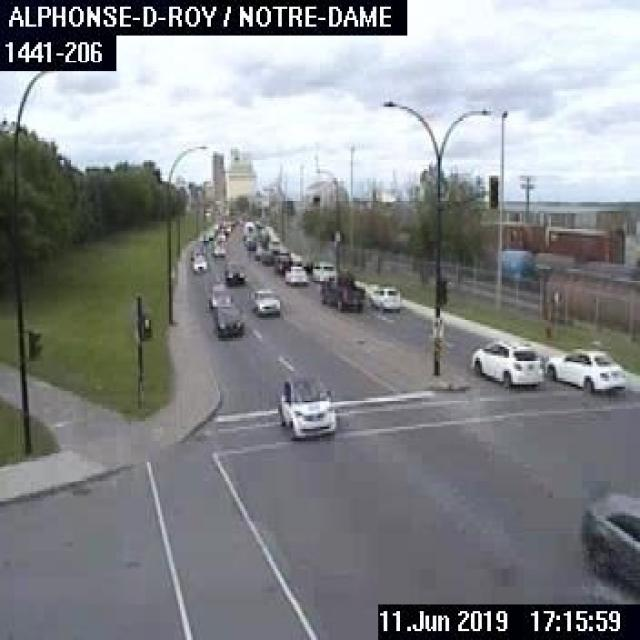vehicle: (580, 489, 638, 587), (542, 338, 628, 396), (468, 334, 546, 389), (272, 371, 334, 438), (315, 268, 366, 312), (210, 300, 245, 338), (365, 282, 400, 311), (249, 284, 280, 316), (206, 280, 232, 308), (283, 262, 310, 286), (221, 259, 246, 284), (310, 257, 337, 280), (274, 250, 291, 272), (191, 253, 205, 271), (212, 244, 224, 256)
